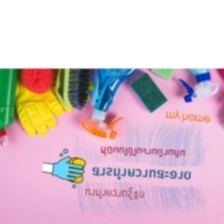cleaning_solution: (76, 20, 154, 141), (154, 2, 220, 104), (0, 28, 21, 149)
